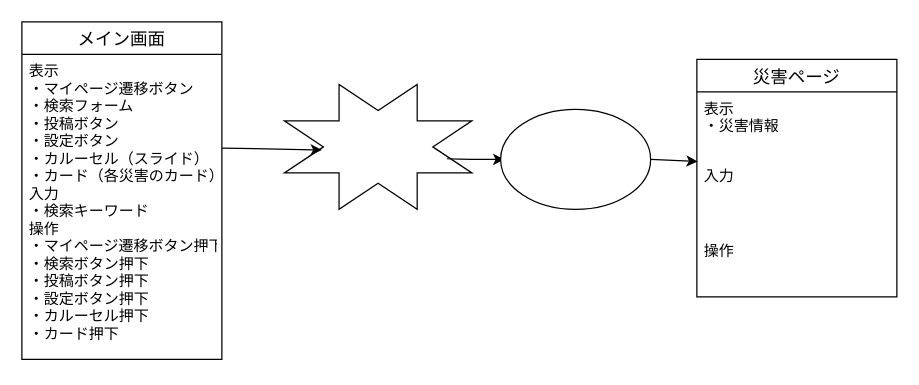
Image size: 919x385. Some labels were removed from this diagram. Each missing label, with the centre of its shape:
「カルーセル」 を押す: (x=377, y=146)
埋め込まれているaタグの画面に遷移する: (x=575, y=158)
